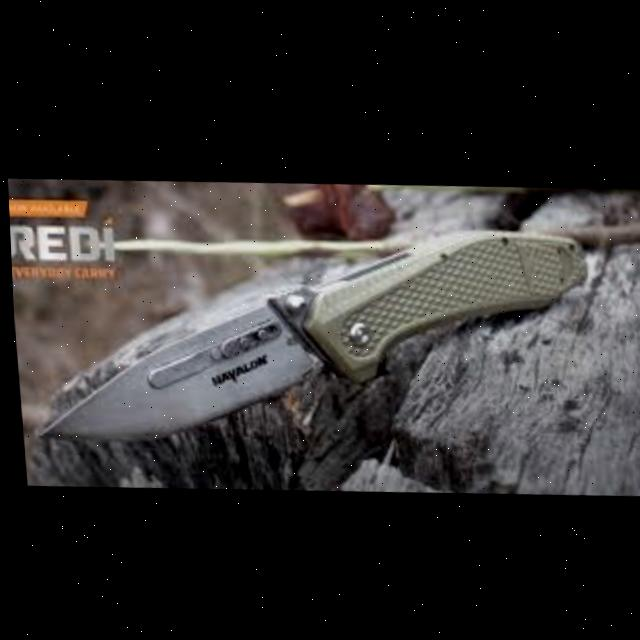knife: (16, 200, 598, 462)
